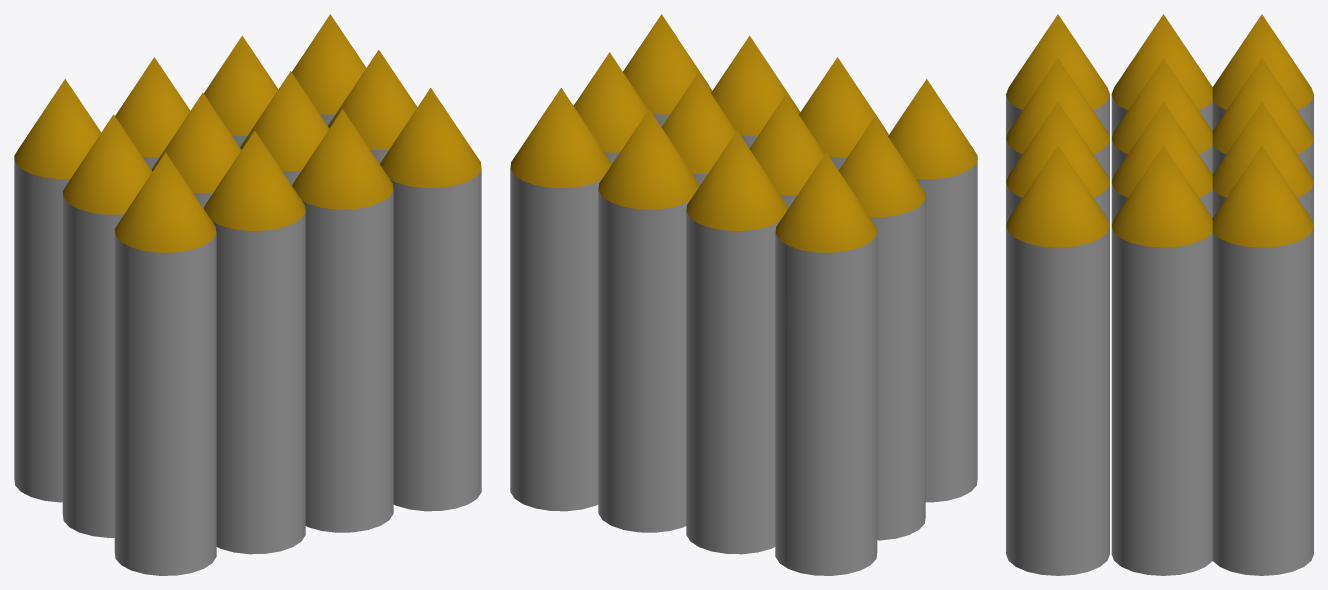
The model's file is AmmoPack.fbx.
The picture shows the model from 3 angles, left to right: view 1: azimuth 30°, elevation 25°; view 2: azimuth 150°, elevation 25°; view 3: azimuth 270°, elevation 25°; orthographic projection.
Parts seen in each view (by area): view 1: pCylinder13; view 2: pCylinder13; view 3: pCylinder13.
Boxes of the visible parts, box(x1,y1,x2,y2) form: pCylinder13: box(14, 14, 481, 575); pCylinder13: box(510, 14, 977, 575); pCylinder13: box(1006, 14, 1313, 575).
Size of the model in its own units: 66.54 by 72.3 by 49.38.
